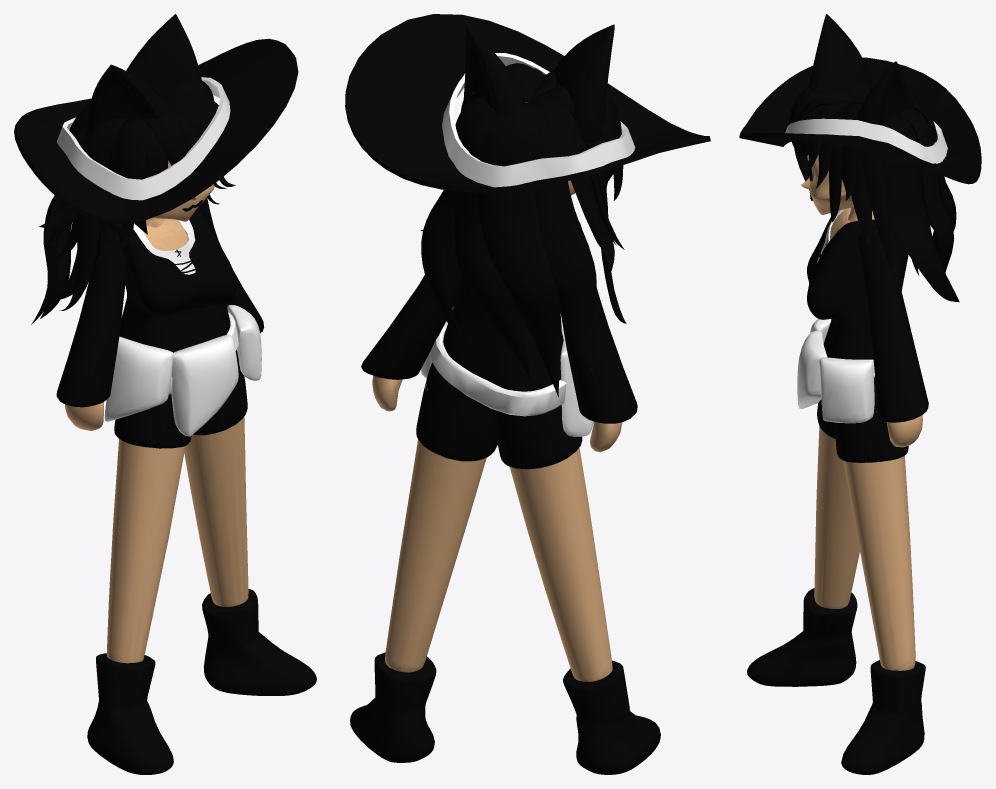
Rendered from CatWitch.fbx.
3 views of the same model, side by side, from view 1: azimuth 30°, elevation 25°; view 2: azimuth 150°, elevation 25°; view 3: azimuth 270°, elevation 25° (orthographic). The views are drawn at different scales.
Parts seen in each view (by area): view 1: Cube.120; view 2: Cube.120; view 3: Cube.120.
Boxes of the visible parts, x1,y1,x2,y2 form: Cube.120: (14,14,316,774); Cube.120: (345,14,710,774); Cube.120: (739,14,981,774).
Size of the model in its own units: 220 by 161 by 484.
